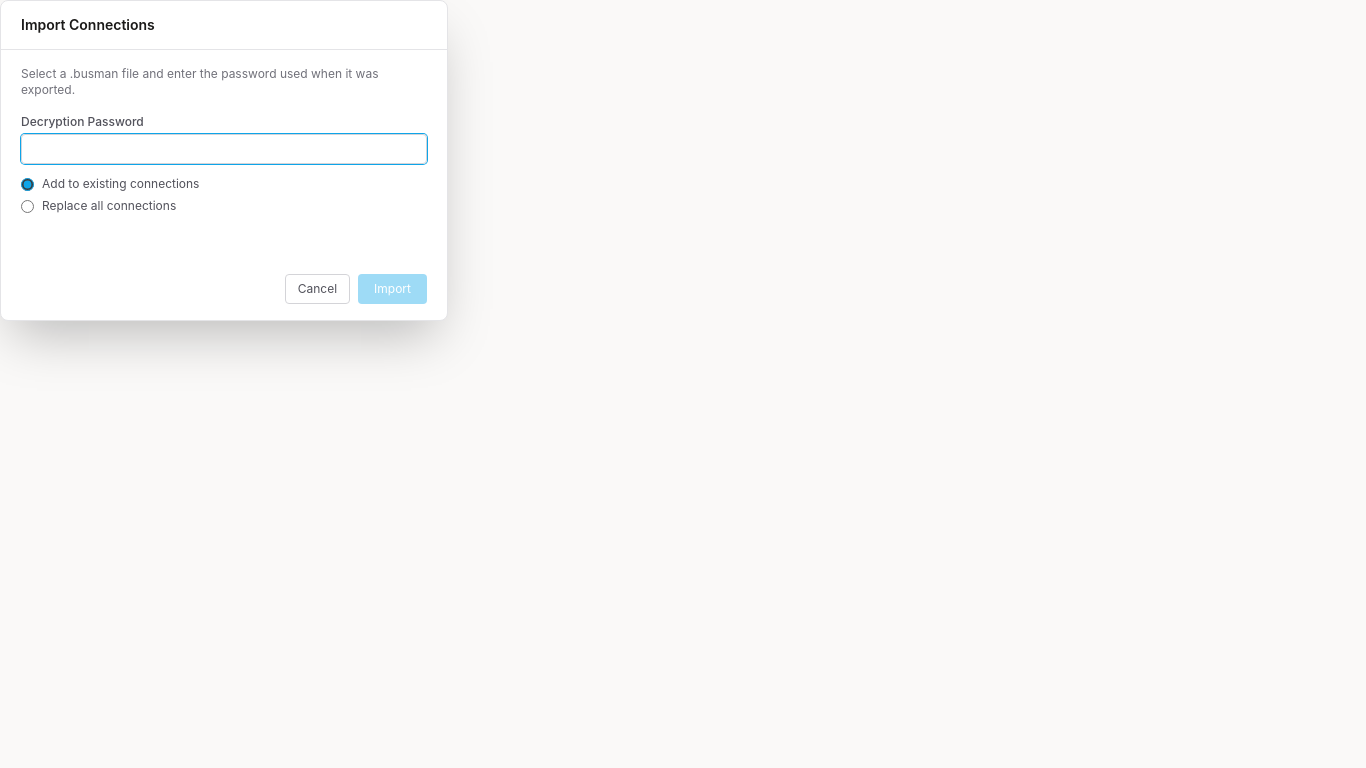
Test case: connection transfer dialogs › keeps the import dialog shell stable after success
The image size is (1366, 768).
Type "secret" into the password field labelled "Decryption Password" at [224, 149], box top-left (21, 134), bottom-right (427, 164)
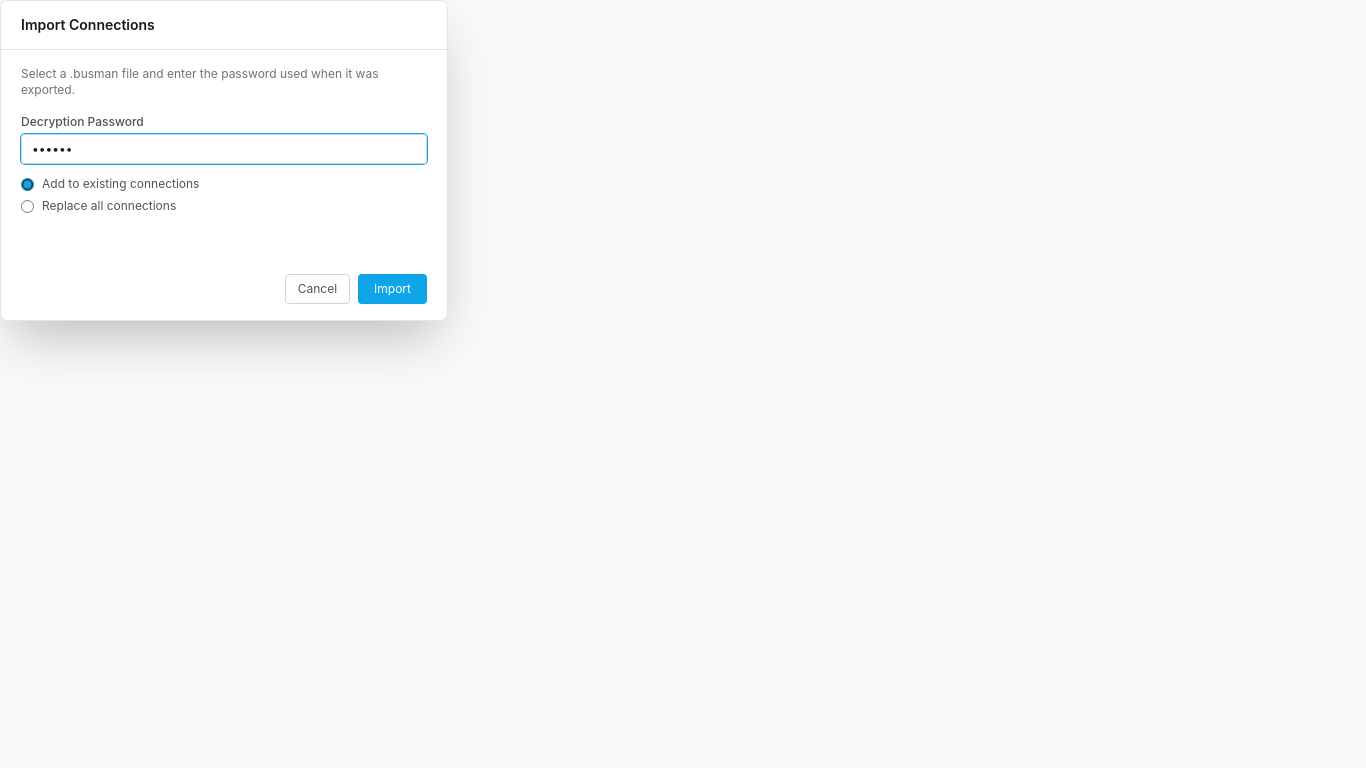
Click the button "Import" at [393, 289], box top-left (358, 274), bottom-right (427, 304)
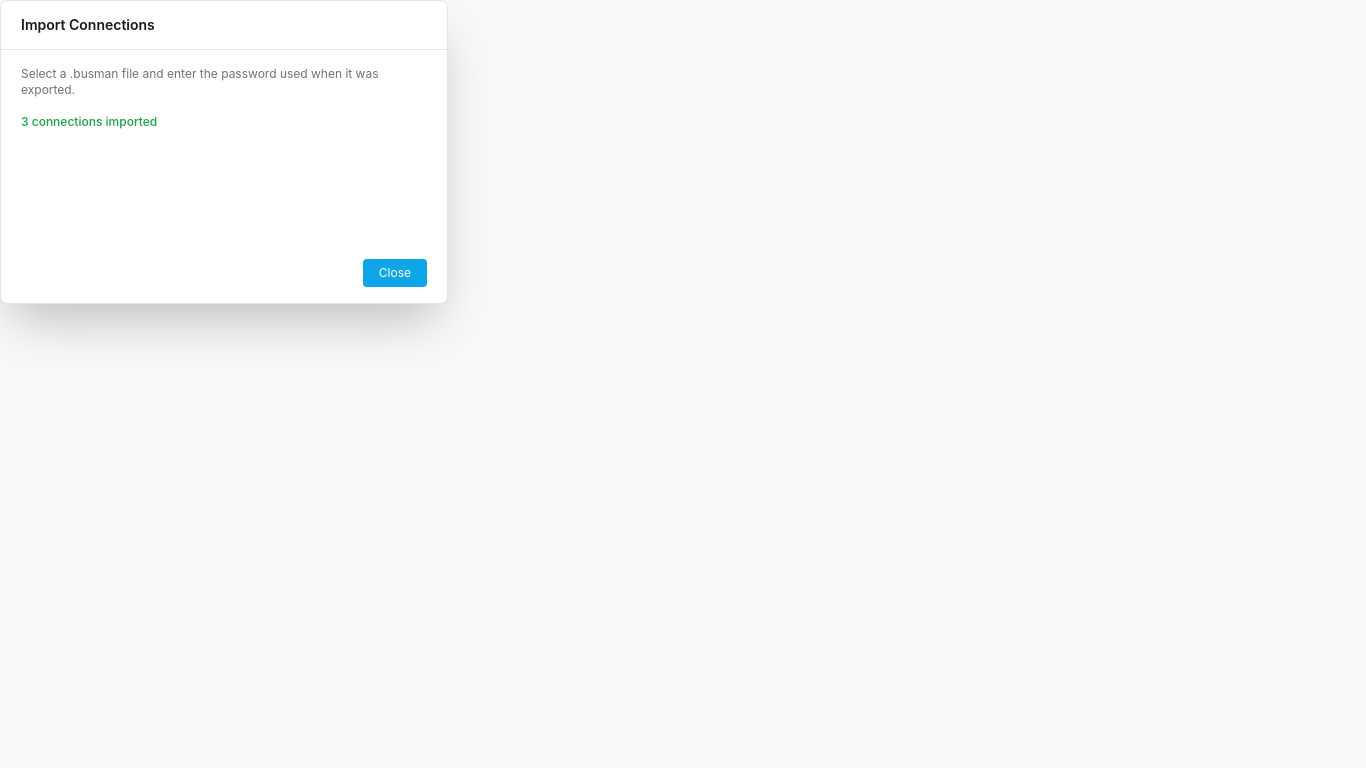
Result: the message "3 connections imported" is shown at top-left (21, 114), bottom-right (157, 129)
